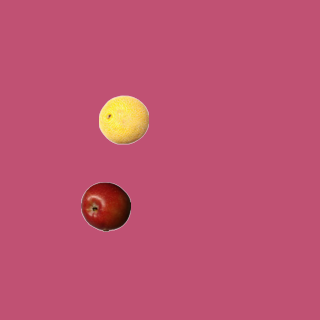Apple Braeburn: (80, 181, 130, 231)
Cantaloupe 1: (98, 94, 148, 144)
